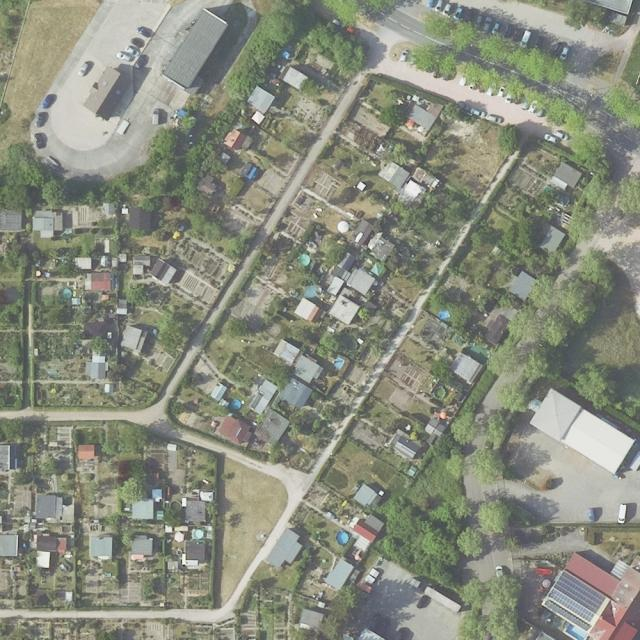PV: (547, 570, 607, 623)
